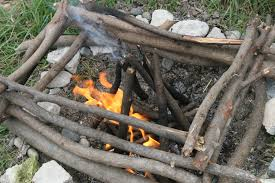wood_together: (5, 1, 272, 183)
